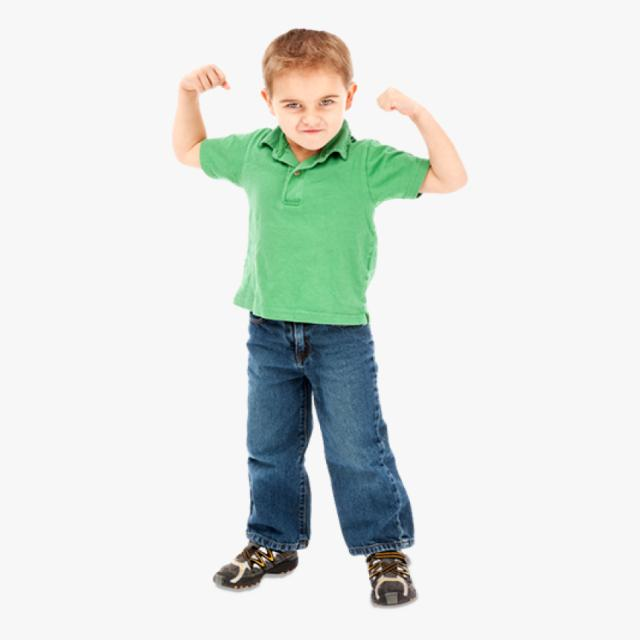child: (152, 18, 484, 619)
